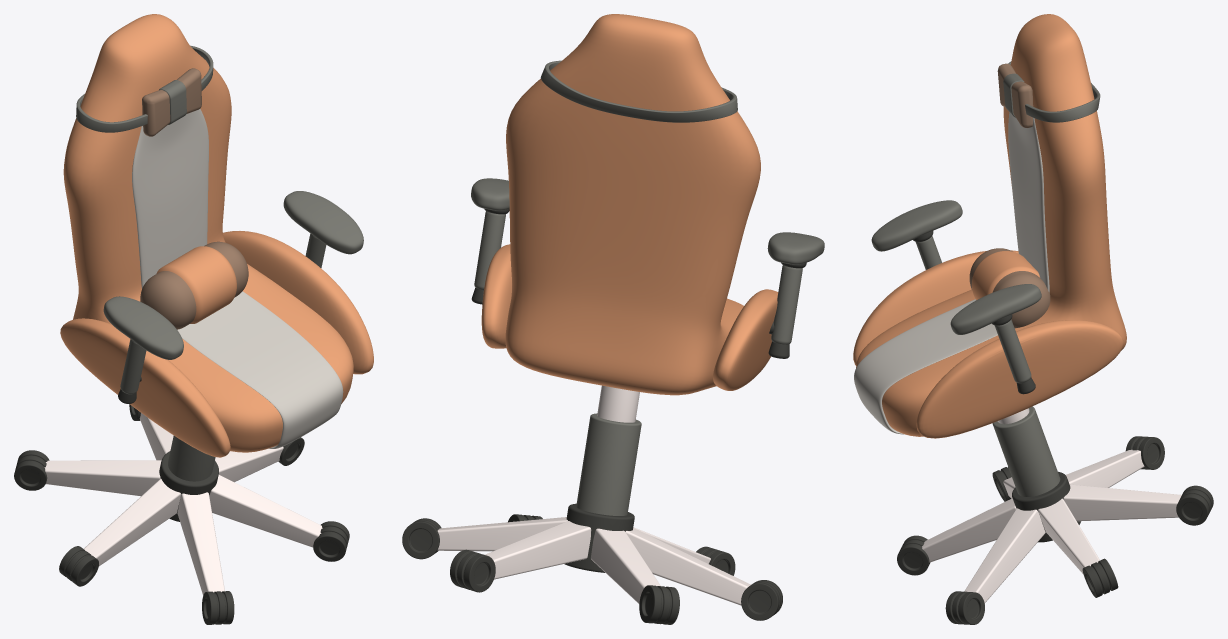
The model's file is office-chair.glb.
The picture shows the model from 3 angles, left to right: view 1: azimuth 30°, elevation 25°; view 2: azimuth 150°, elevation 25°; view 3: azimuth 270°, elevation 25°; orthographic projection. The views are drawn at different scales.
Visible parts, largest first — view 1: Cube.137, Cube.141, Cube.138, Cube.136, Cube.139, Cube.132, Cylinder.020, Cylinder.027, Cylinder.026, Cube.142, Cylinder.019, Cylinder.018 (+4 smaller); view 2: Cube.137, Cube.136, Cube.138, Cube.132, Cylinder.018, Cylinder.020, Cylinder.022, NurbsPath.002, Cube.139, Cylinder.019, Cylinder.017, Cylinder.021; view 3: Cube.137, Cube.138, Cube.136, Cube.141, Cube.139, Cylinder.020, Cylinder.018, Cube.132, Cylinder.022, Cylinder.026, Cylinder.027, Cylinder.019 (+3 smaller).
Part boxes in pixels (left/top/right/bottom): Cube.137: left=63, top=14, right=353, bottom=452; Cube.141: left=132, top=109, right=343, bottom=448; Cube.138: left=60, top=231, right=373, bottom=457; Cube.136: left=44, top=413, right=322, bottom=595; Cube.139: left=103, top=191, right=363, bottom=359; Cube.132: left=84, top=446, right=283, bottom=566; Cylinder.020: left=14, top=404, right=349, bottom=624; Cylinder.027: left=156, top=246, right=236, bottom=323; Cylinder.026: left=140, top=241, right=248, bottom=329; Cube.142: left=142, top=68, right=201, bottom=136; Cylinder.019: left=59, top=437, right=304, bottom=586; Cylinder.018: left=168, top=435, right=215, bottom=481; Cube.137: left=505, top=14, right=760, bottom=395; Cube.136: left=484, top=521, right=710, bottom=603; Cube.138: left=481, top=244, right=778, bottom=390; Cube.132: left=437, top=517, right=750, bottom=605; Cylinder.018: left=576, top=413, right=641, bottom=515; Cylinder.020: left=450, top=514, right=735, bottom=624; Cylinder.022: left=474, top=211, right=802, bottom=344; NurbsPath.002: left=540, top=60, right=737, bottom=122; Cube.139: left=471, top=178, right=824, bottom=264; Cylinder.019: left=402, top=518, right=782, bottom=620; Cylinder.017: left=564, top=503, right=634, bottom=572; Cylinder.021: left=597, top=385, right=639, bottom=422; Cube.137: left=856, top=14, right=1126, bottom=436; Cube.138: left=853, top=250, right=1123, bottom=438; Cube.136: left=922, top=449, right=1181, bottom=603; Cube.141: left=854, top=112, right=1049, bottom=434; Cube.139: left=871, top=200, right=1041, bottom=334; Cylinder.020: left=897, top=436, right=1213, bottom=624; Cylinder.018: left=992, top=406, right=1060, bottom=496; Cube.132: left=1003, top=477, right=1099, bottom=574; Cylinder.022: left=915, top=236, right=1031, bottom=383; Cylinder.026: left=969, top=248, right=1050, bottom=328; Cylinder.027: left=972, top=251, right=1039, bottom=299; Cylinder.019: left=992, top=467, right=1118, bottom=597.
Bounding box in the file's own units: 1.62 × 2.99 × 1.79.
